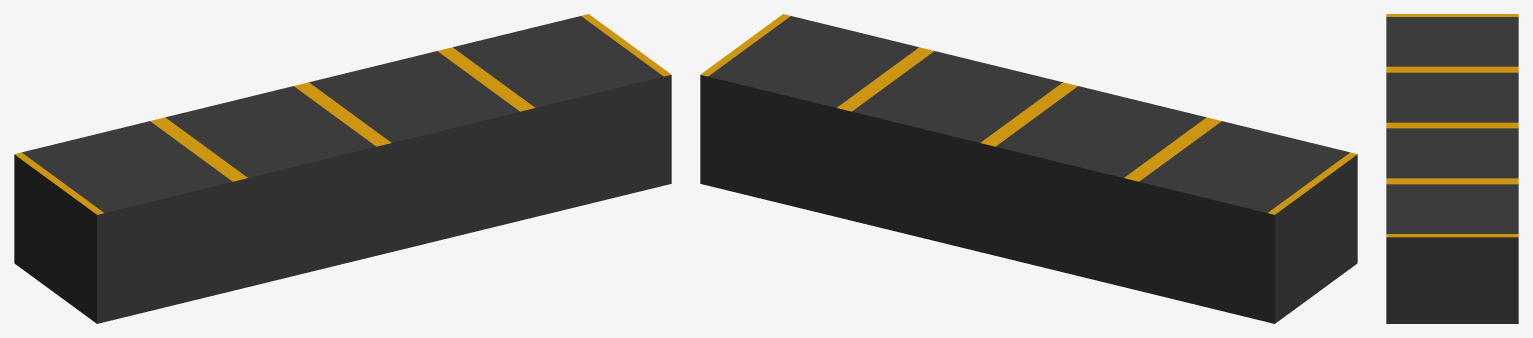
File: floor2.fbx
3 views of the same model, side by side, from view 1: azimuth 30°, elevation 25°; view 2: azimuth 150°, elevation 25°; view 3: azimuth 270°, elevation 25° (orthographic). The views are drawn at different scales.
Parts seen in each view (by area): view 1: Cube.007; view 2: Cube.007; view 3: Cube.007.
Boxes of the visible parts, box(x1,y1,x2,y2) form: Cube.007: box(14, 14, 671, 323); Cube.007: box(700, 14, 1357, 323); Cube.007: box(1386, 14, 1518, 323).
Size of the model in its own units: 3289 by 597 by 822.
